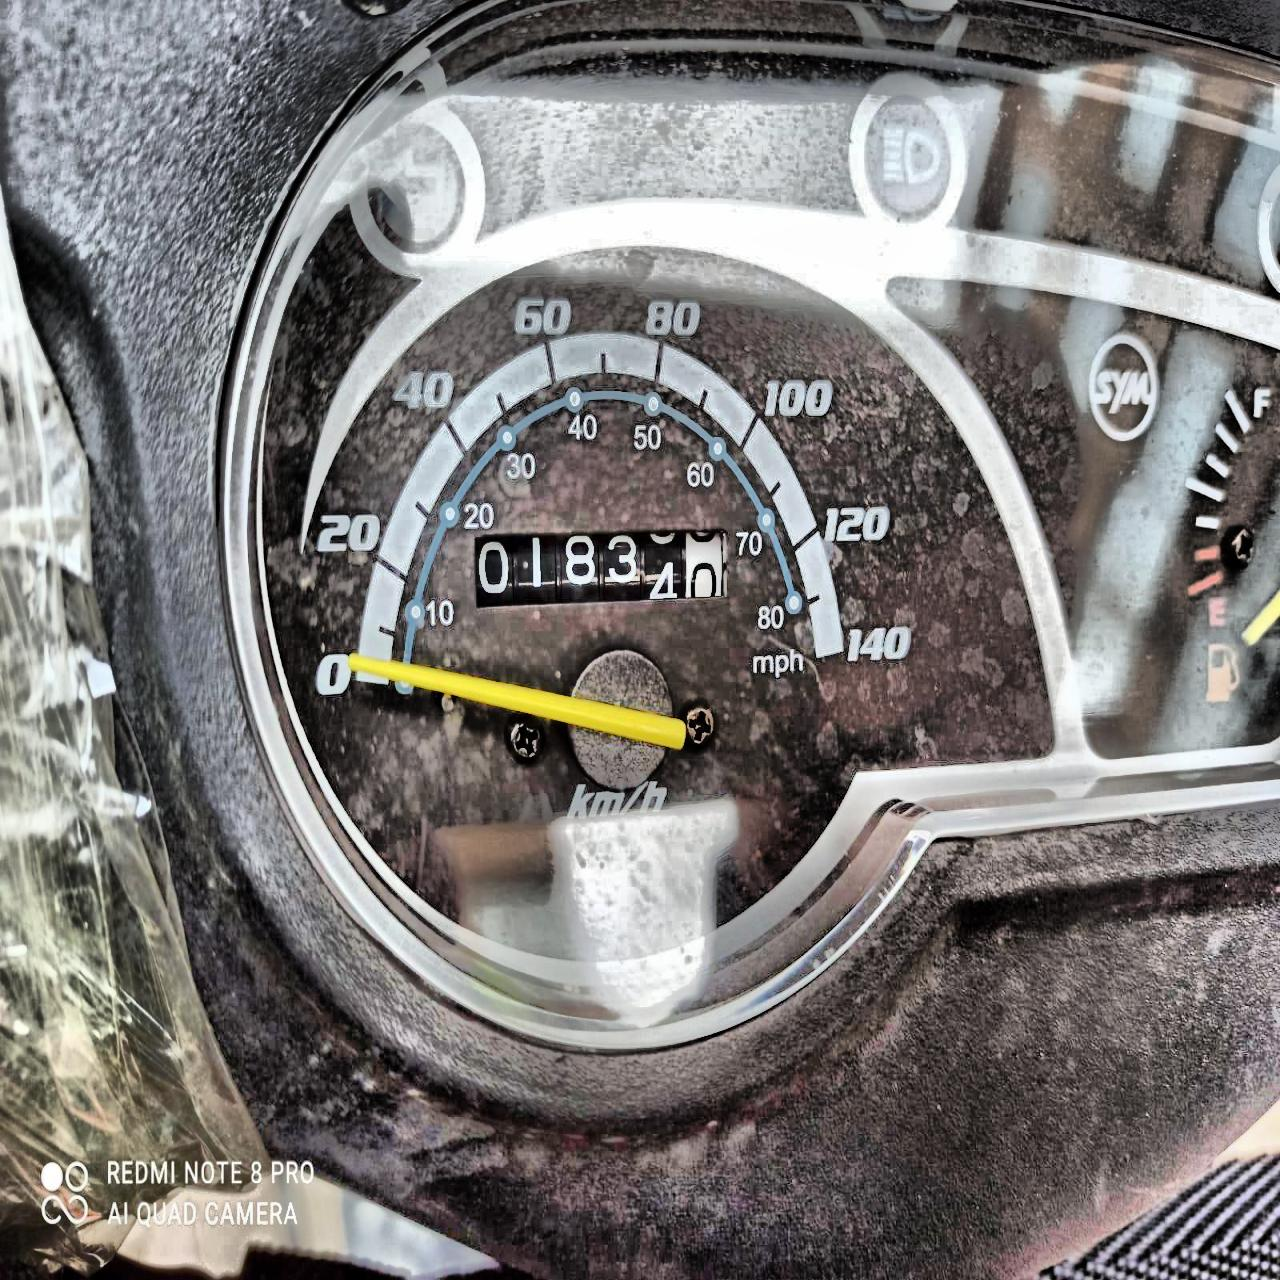0: (476, 538, 510, 594), (686, 551, 721, 601)
1: (526, 533, 545, 588)
3: (606, 535, 640, 585)
4: (647, 554, 680, 602)
8: (563, 532, 595, 586)
odometer: (472, 529, 728, 605)
